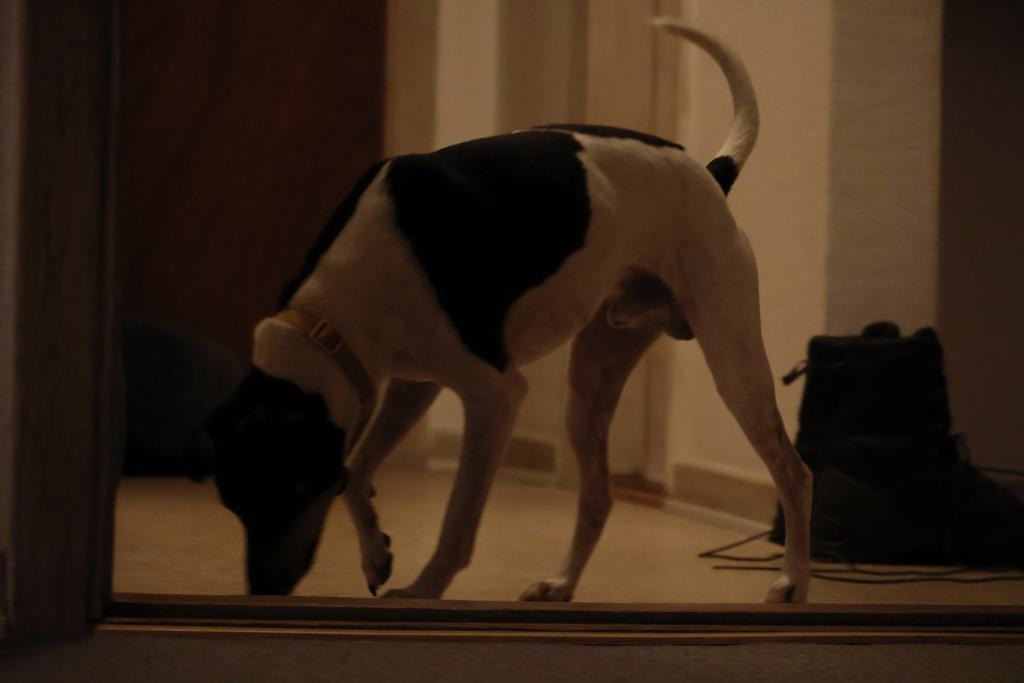Dog: (166, 8, 823, 614)
